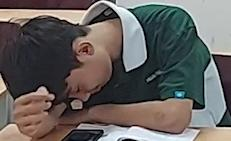Sleeping: (0, 2, 226, 139)
